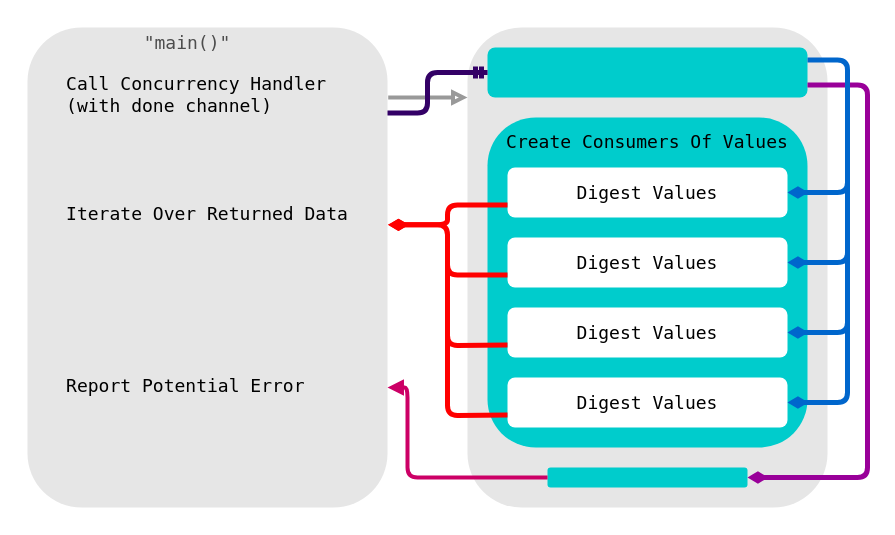
Some shapes in this 895 by 535 pixel diagram are drawn without their labels. Each missing label, with the centre of its shape:
Produce Values To Operate On: [647,72]
Provide Error Check: [647,477]
